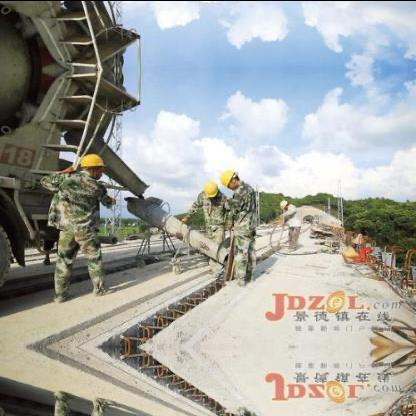Helmet: (216, 163, 242, 189), (77, 152, 105, 176), (200, 175, 218, 199), (276, 197, 288, 209)
